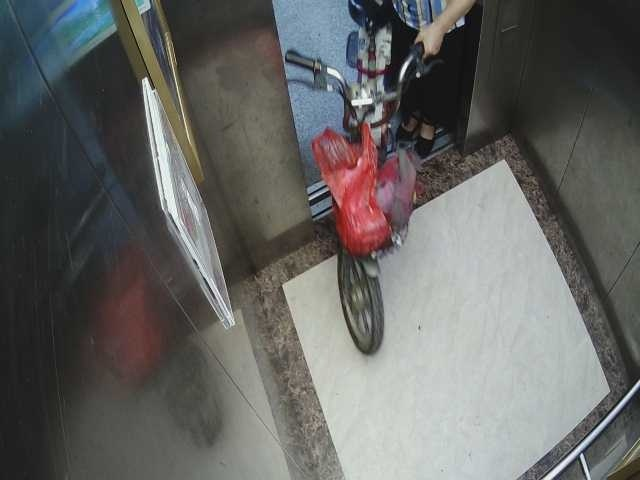emotor: (273, 2, 434, 353)
